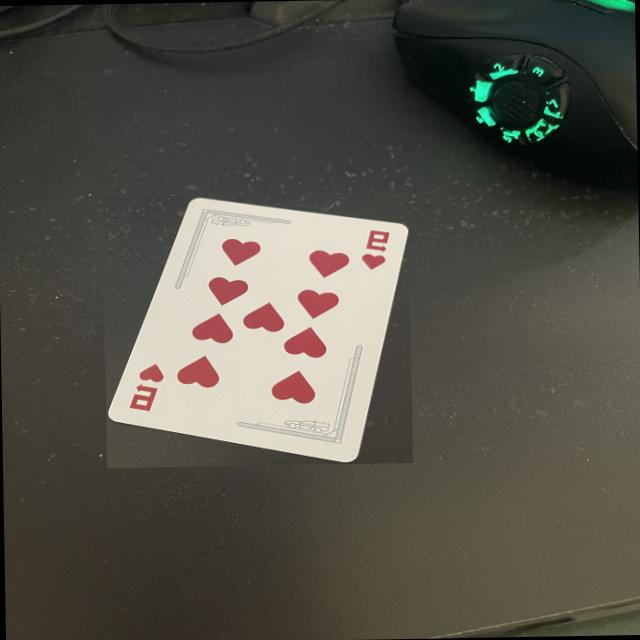9 of hearts: (107, 195, 408, 463)
